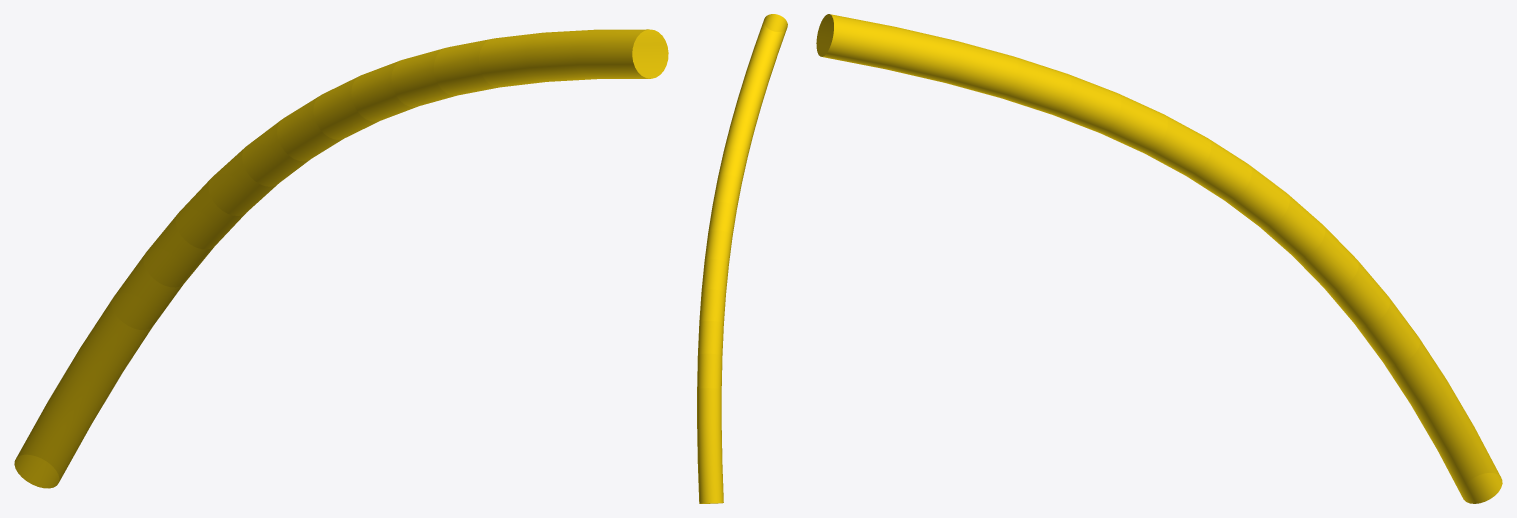
Rendered from Event_420094457_track_75.fbx.
3 views of the same model, side by side, from view 1: azimuth 30°, elevation 25°; view 2: azimuth 150°, elevation 25°; view 3: azimuth 270°, elevation 25° (orthographic). The views are drawn at different scales.
Visible parts, largest first — view 1: Model; view 2: Model; view 3: Model.
Part boxes in pixels (x1,y1,x2,y2): Model: (14, 29, 668, 488); Model: (697, 14, 787, 503); Model: (816, 14, 1502, 503).
Bounding box in the file's own units: 0.265 × 0.5903 × 0.6269.
